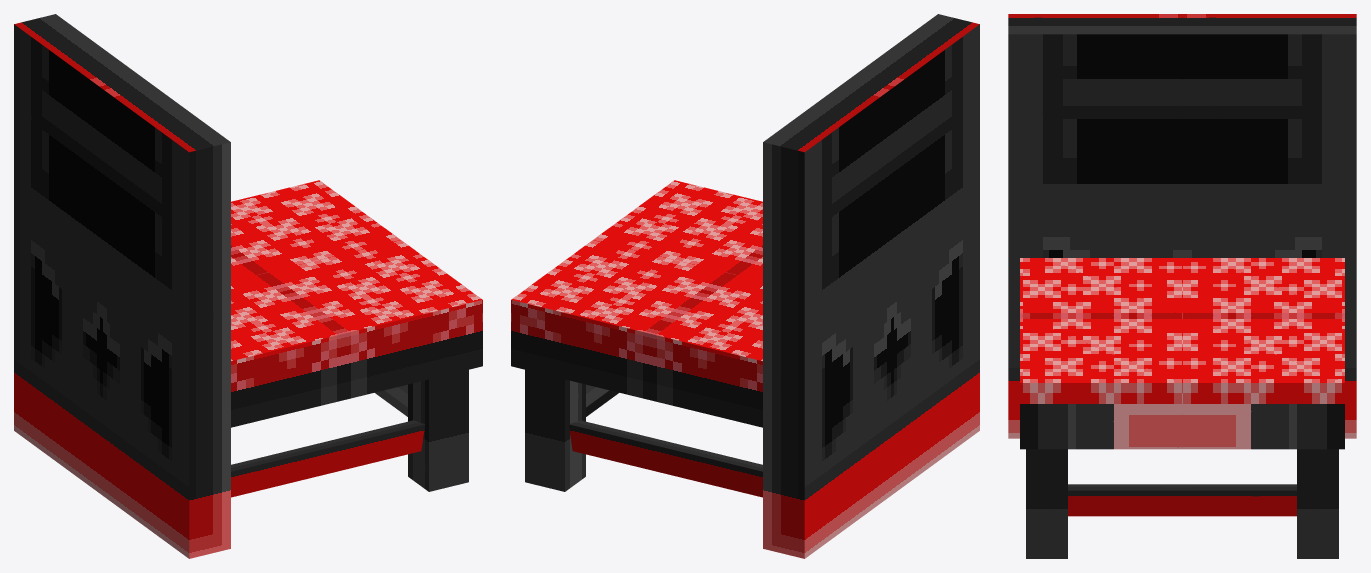
3 renders of one model, left to right at view 1: azimuth 30°, elevation 25°; view 2: azimuth 150°, elevation 25°; view 3: azimuth 270°, elevation 25°, orthographic.
Parts seen in each view (by area): view 1: 3562kg_03_isu; view 2: 3562kg_03_isu; view 3: 3562kg_03_isu.
Part boxes in pixels (x1,y1,x2,y2): 3562kg_03_isu: (14,14,482,558); 3562kg_03_isu: (511,14,979,558); 3562kg_03_isu: (1008,14,1356,558).
Size of the model in its own units: 0.7585 by 0.9846 by 0.7681.
Materials: 1 (1 with a texture image).
